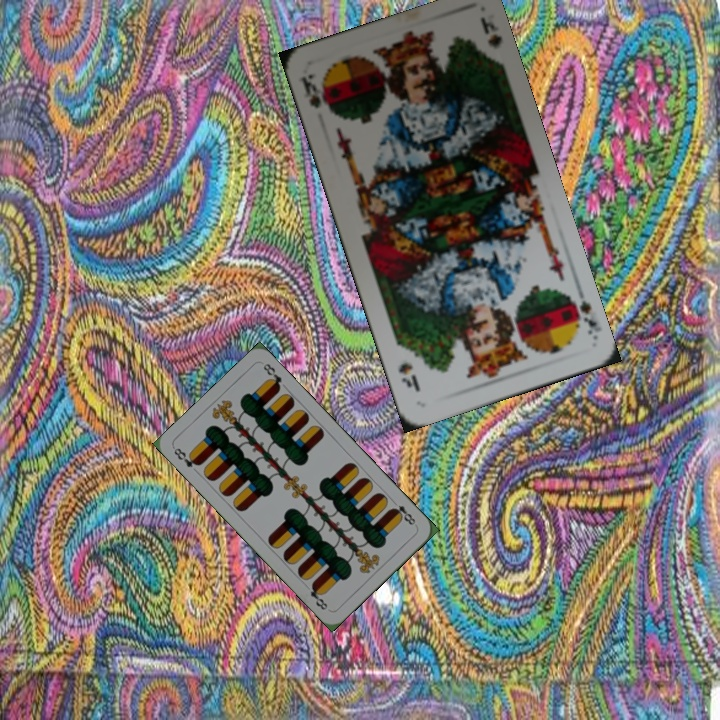E8: (387, 496, 419, 529), (170, 444, 203, 470)
SK: (562, 284, 600, 342), (295, 69, 334, 116)
